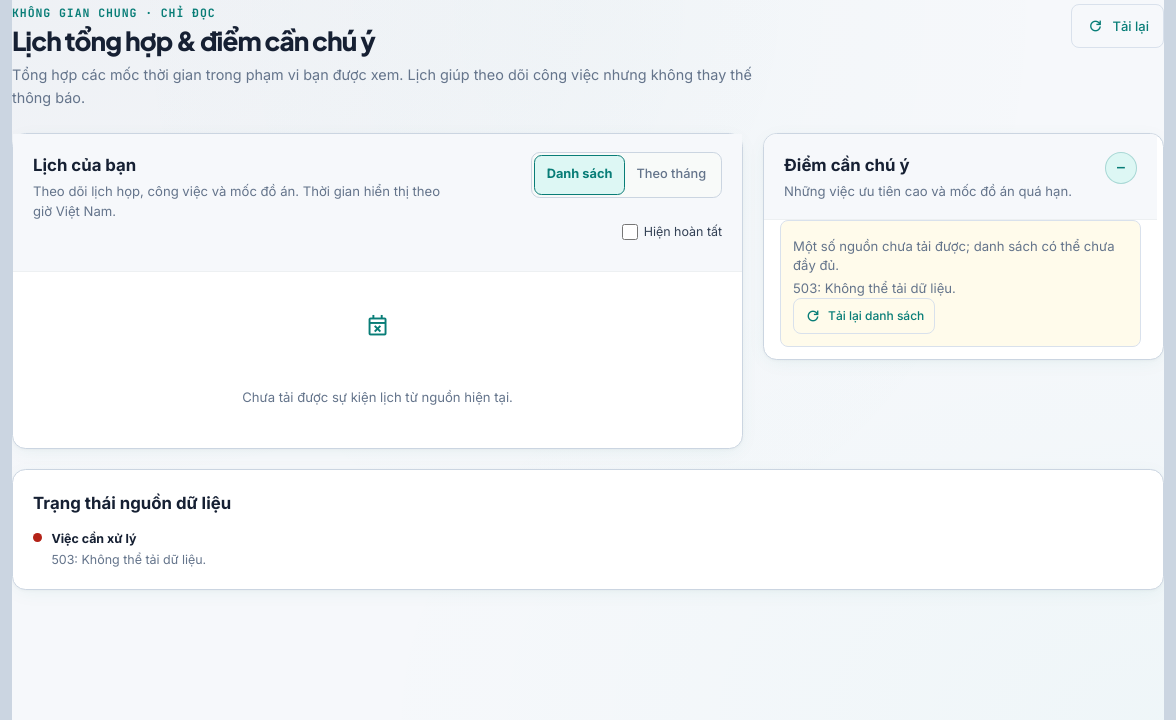
CalendarAttentionPage › announces a genuine source error with an alert and provides one functioning retry
The width and height of the screenshot is (1176, 720).
Expected: the message named "Chưa xác định số việc cần làm" is shown, [1105,152,1137,184]
Expected: the 2nd message shows "Một số nguồn chưa tải được", [793,238,1115,273]
Click the button "Tải lại danh sách" at (864, 316), box [793,298,935,334]
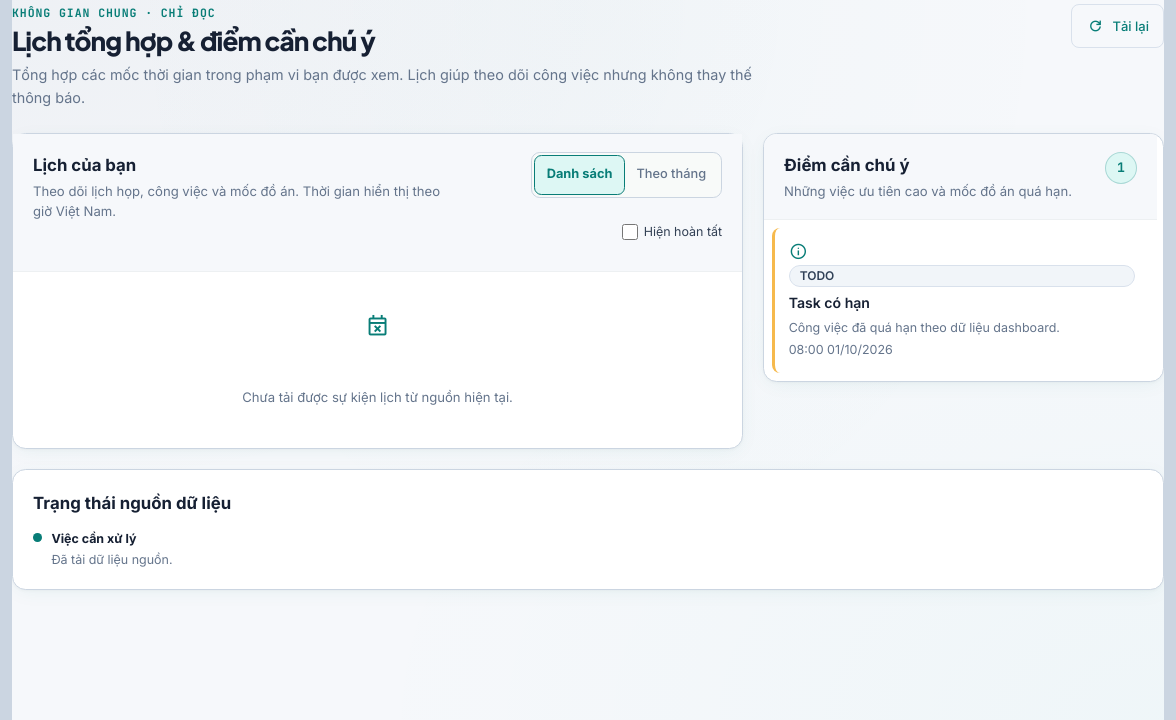
Expected: the message named "1 điểm cần chú ý" is shown, [1105,152,1137,184]
